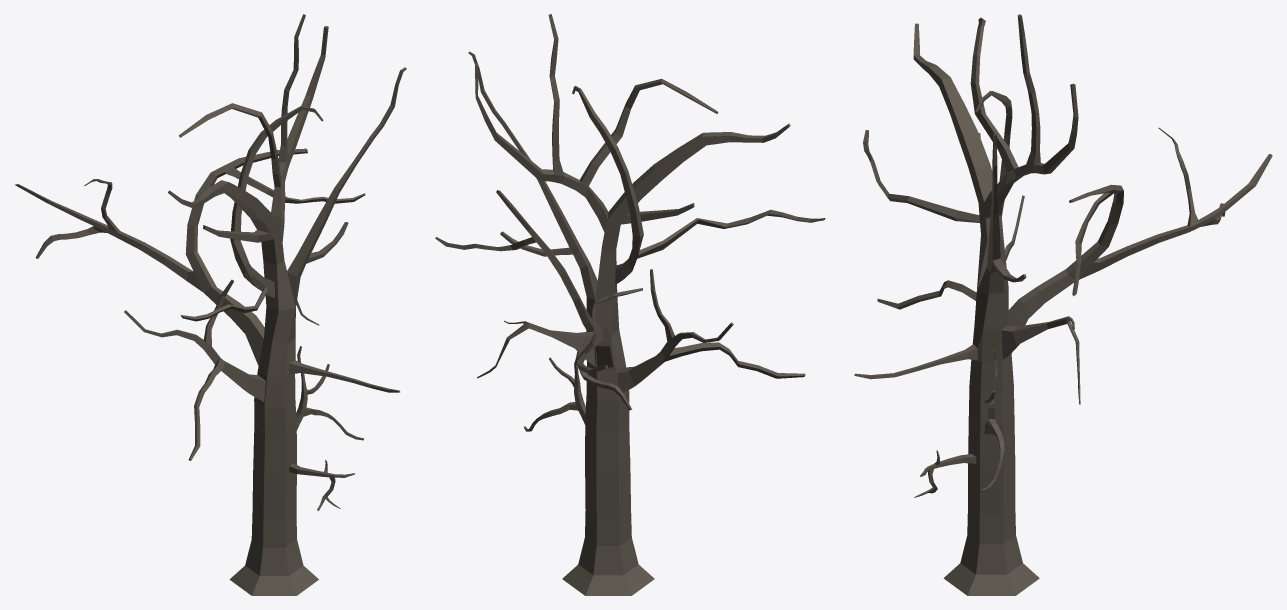
Rendered from Dead Tree.fbx.
3 renders of one model, left to right at view 1: azimuth 30°, elevation 25°; view 2: azimuth 150°, elevation 25°; view 3: azimuth 270°, elevation 25°, orthographic. The views are drawn at different scales.
Visible parts, largest first — view 1: Dead Tree; view 2: Dead Tree; view 3: Dead Tree.
Boxes of the visible parts, box(x1,y1,x2,y2) form: Dead Tree: box(14, 14, 406, 595); Dead Tree: box(435, 14, 825, 595); Dead Tree: box(854, 14, 1272, 595).
Bounding box in the file's own units: 232 × 425 × 275.
